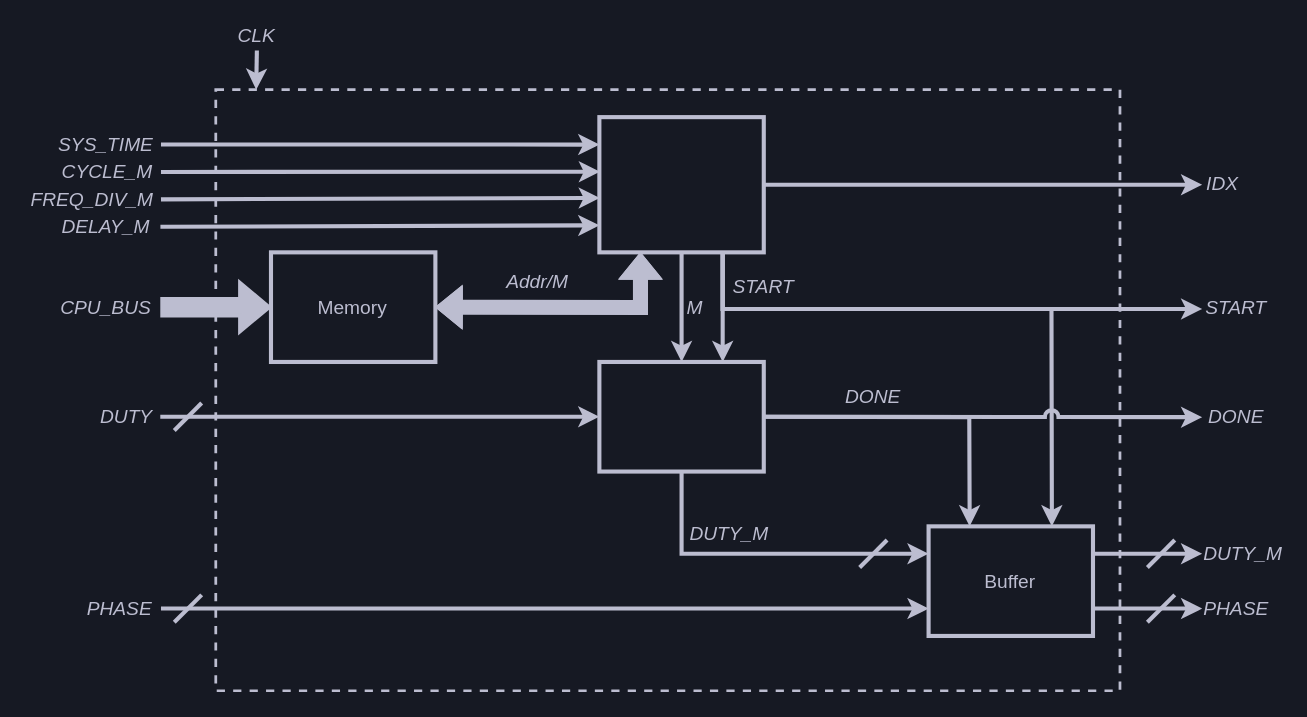
This 1307x717 diagram has some shape labels left out. Each missing label, with the centre of its shape:
Multiplier: [681,416]
Sampler: [681,184]
